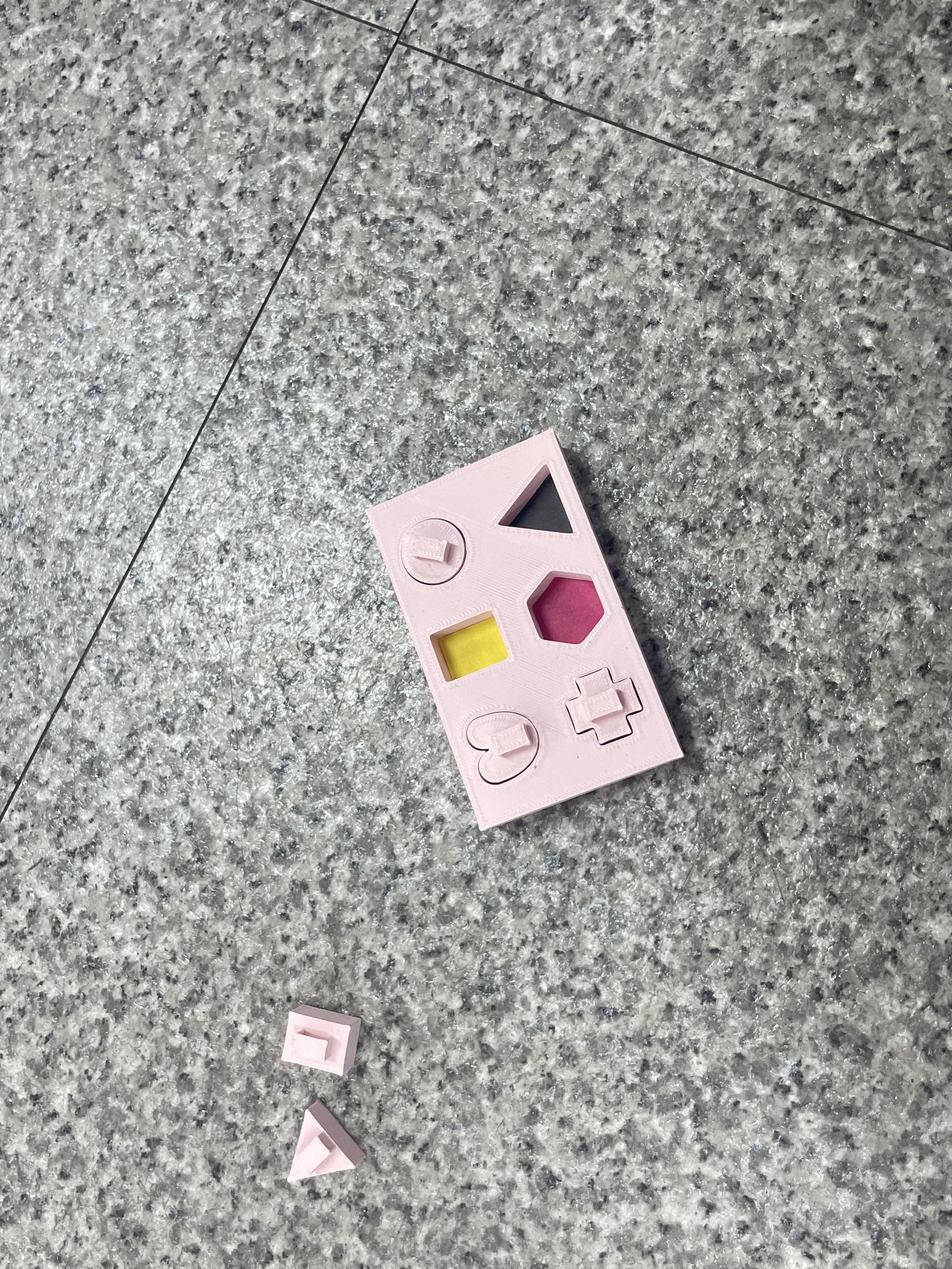unsolved: (340, 397, 705, 842)
